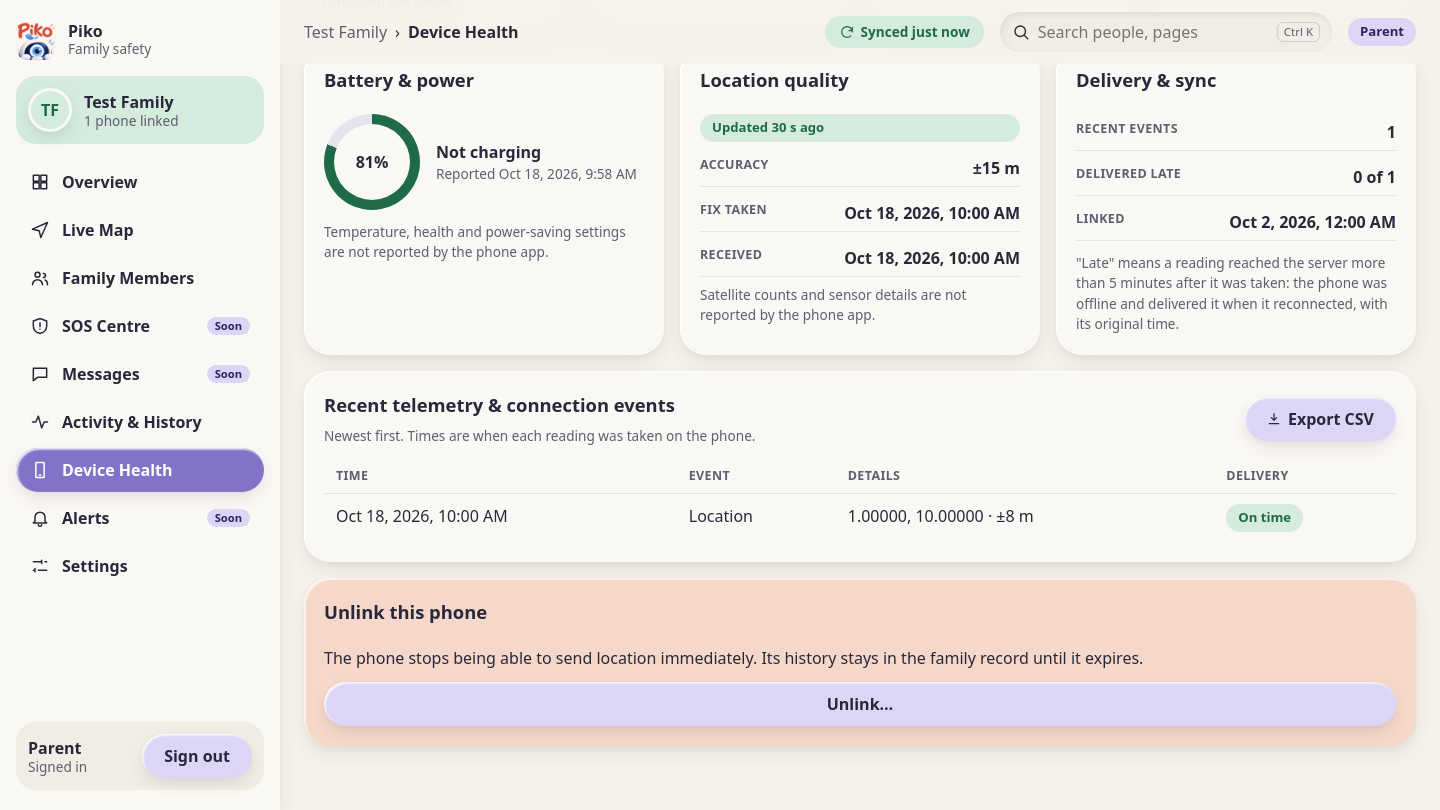
Test: device health › shows the server refusal if a request the page allowed is denied anyway
(page scrolled)
Click the button "Unlink…". click: (860, 704)
box: [324,682,1396,726]
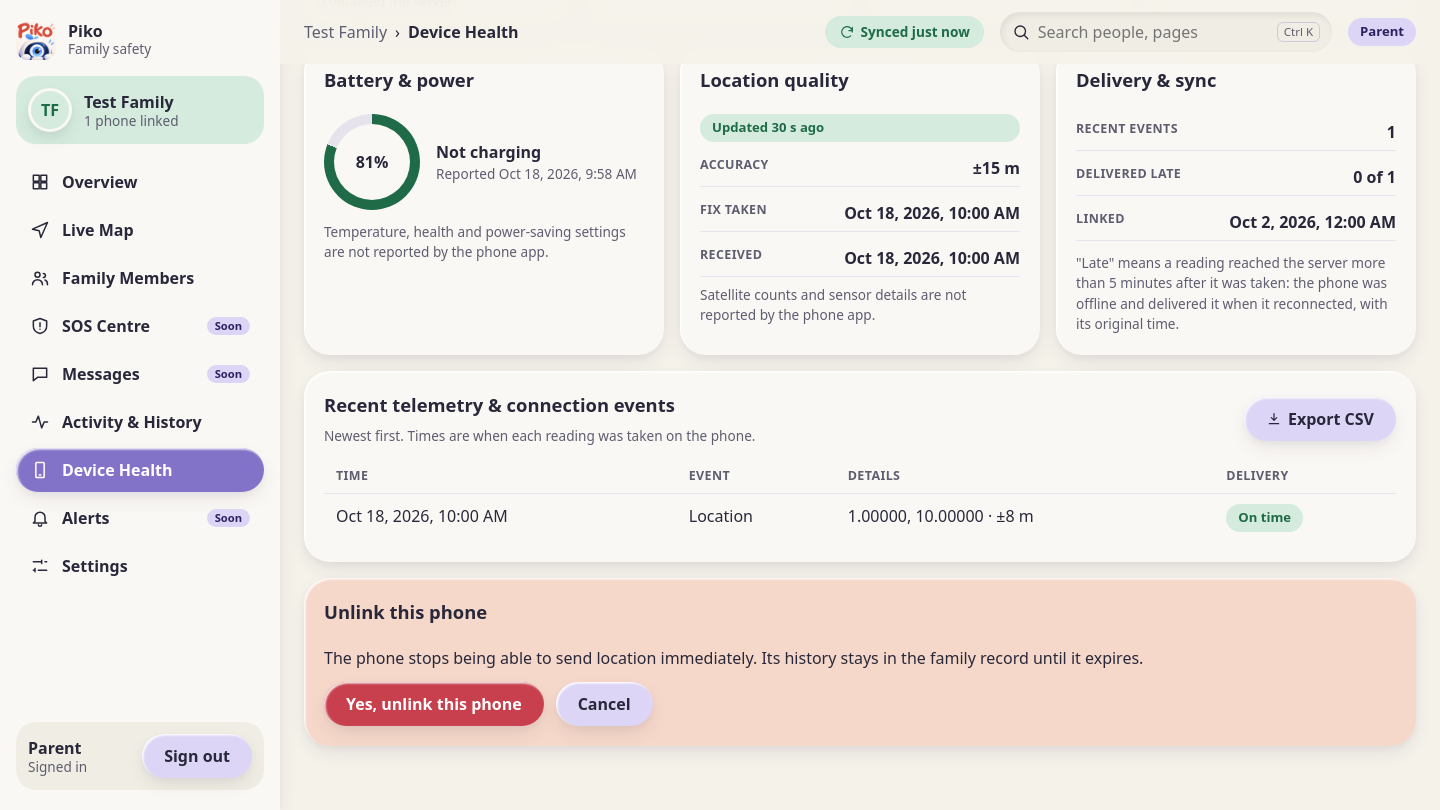
Click the button "Yes, unlink this phone". click: (434, 704)
box: [324,682,544,726]
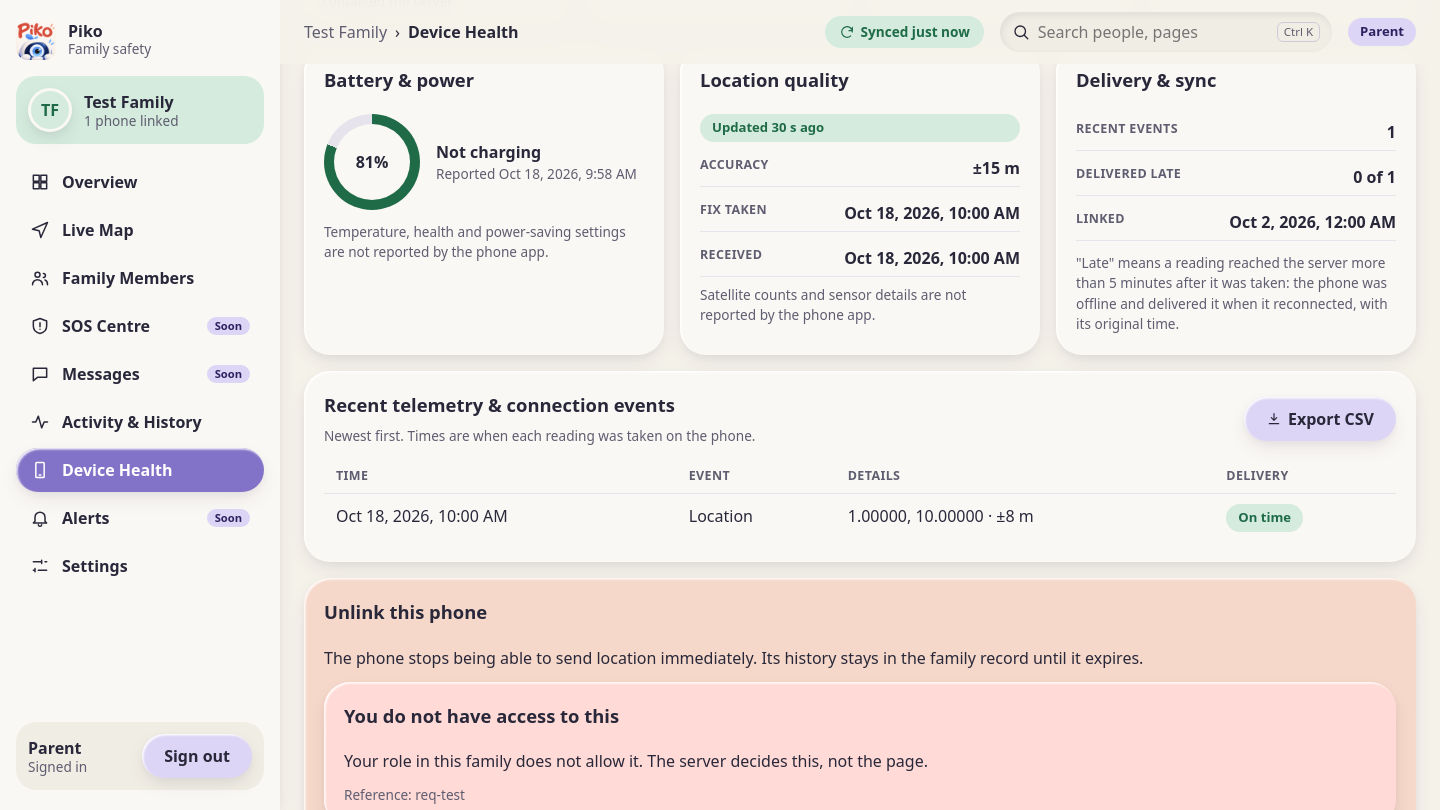
Expected: the heading "You do not have access to this" is shown, [344,703,619,728]
